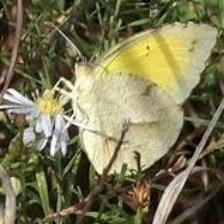butterfly: (74, 23, 217, 174)
